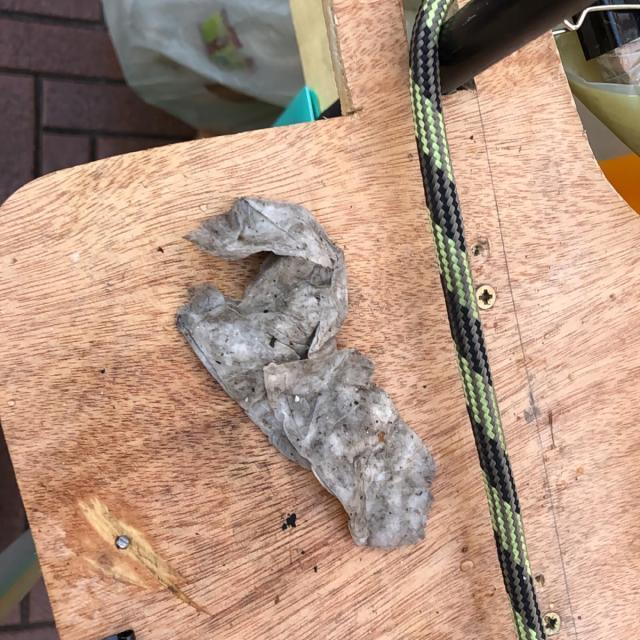Paper: (174, 194, 440, 550)
